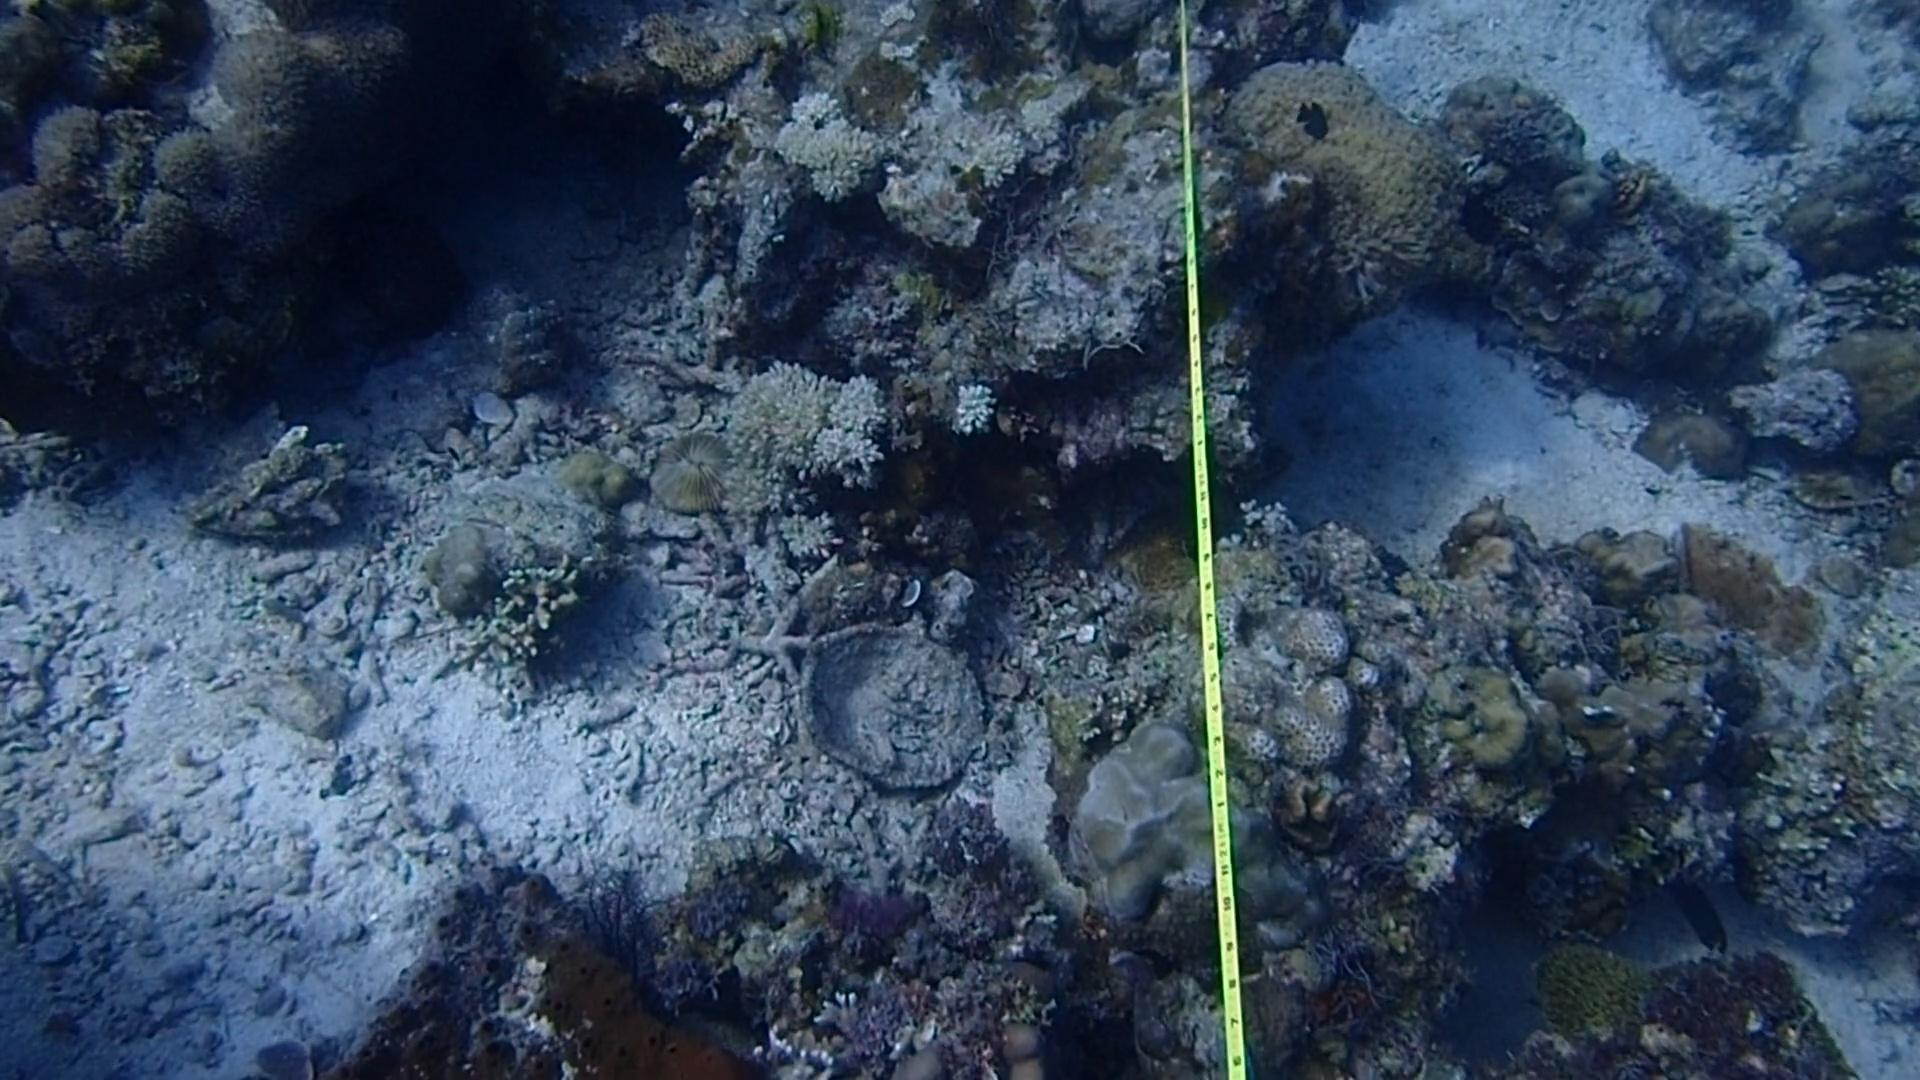Dark Fish: (1664, 864, 1739, 959), (1440, 173, 1516, 256), (1283, 86, 1348, 153)
